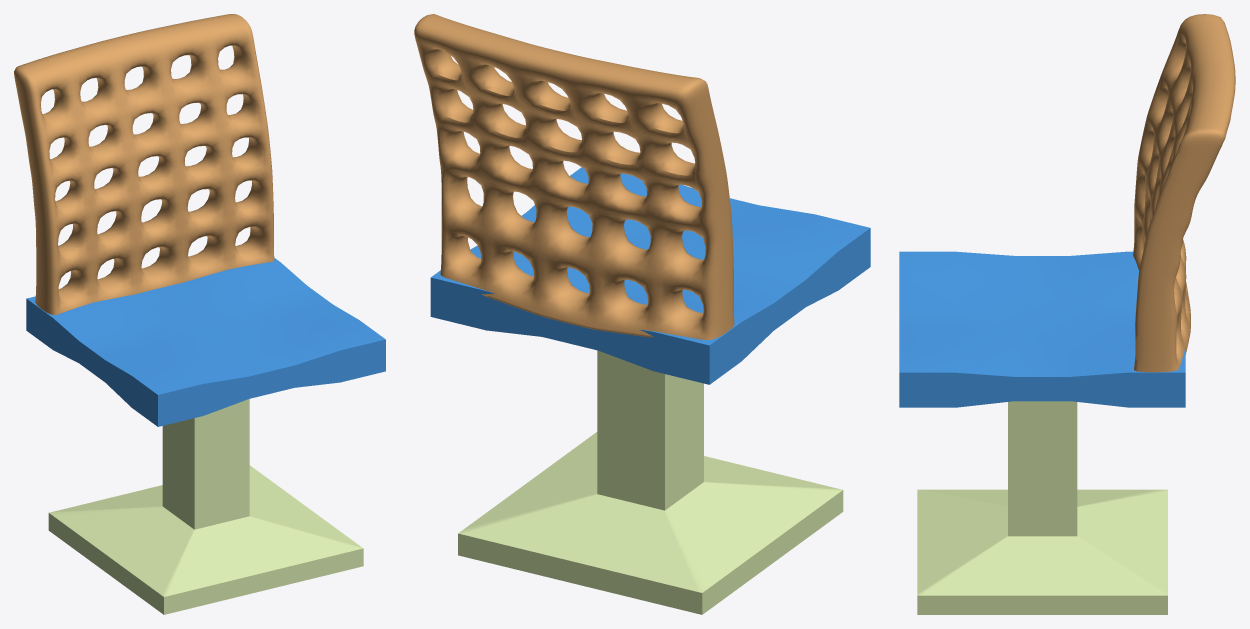
3 renders of one model, left to right at view 1: azimuth 30°, elevation 25°; view 2: azimuth 150°, elevation 25°; view 3: azimuth 270°, elevation 25°, orthographic. The views are drawn at different scales.
Visible parts, largest first — view 1: Object_2.002, Object_2, Object_2.001; view 2: Object_2.002, Object_2.001, Object_2; view 3: Object_2, Object_2.001, Object_2.002.
Boxes of the visible parts, left/top/right/bottom form: Object_2.002: left=14, top=14, right=274, bottom=314; Object_2: left=26, top=258, right=385, bottom=426; Object_2.001: left=48, top=399, right=363, bottom=614; Object_2.002: left=414, top=14, right=734, bottom=340; Object_2.001: left=458, top=350, right=843, bottom=614; Object_2: left=430, top=167, right=870, bottom=384; Object_2: left=899, top=251, right=1185, bottom=407; Object_2.001: left=917, top=401, right=1167, bottom=614; Object_2.002: left=1133, top=14, right=1235, bottom=372.
Size of the model in its own units: 0.5293 by 1 by 0.6213.
